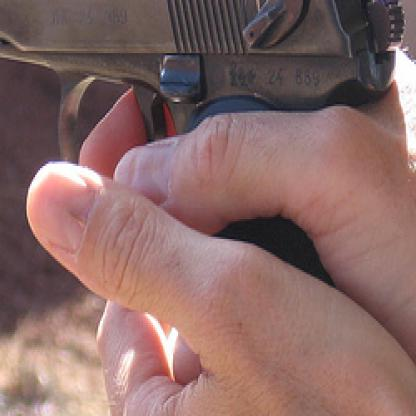gun: (0, 0, 415, 346)
